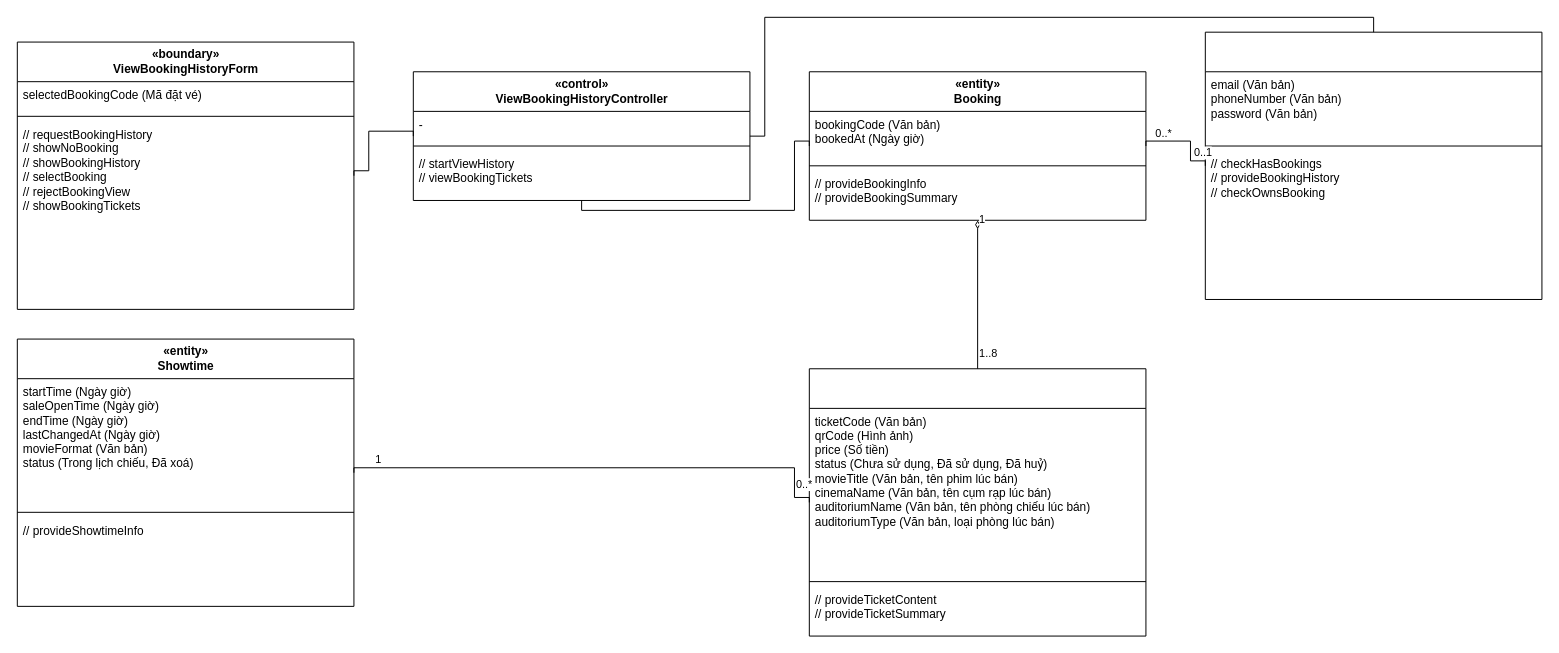
Image size: 1559x653. Some labels were removed from this diagram. The box of each missing label's shape, as (x1, y1, x2, y2) in pixels:
«entity» Customer: (1204, 31, 1542, 299)
«entity» Ticket: (808, 368, 1146, 636)
